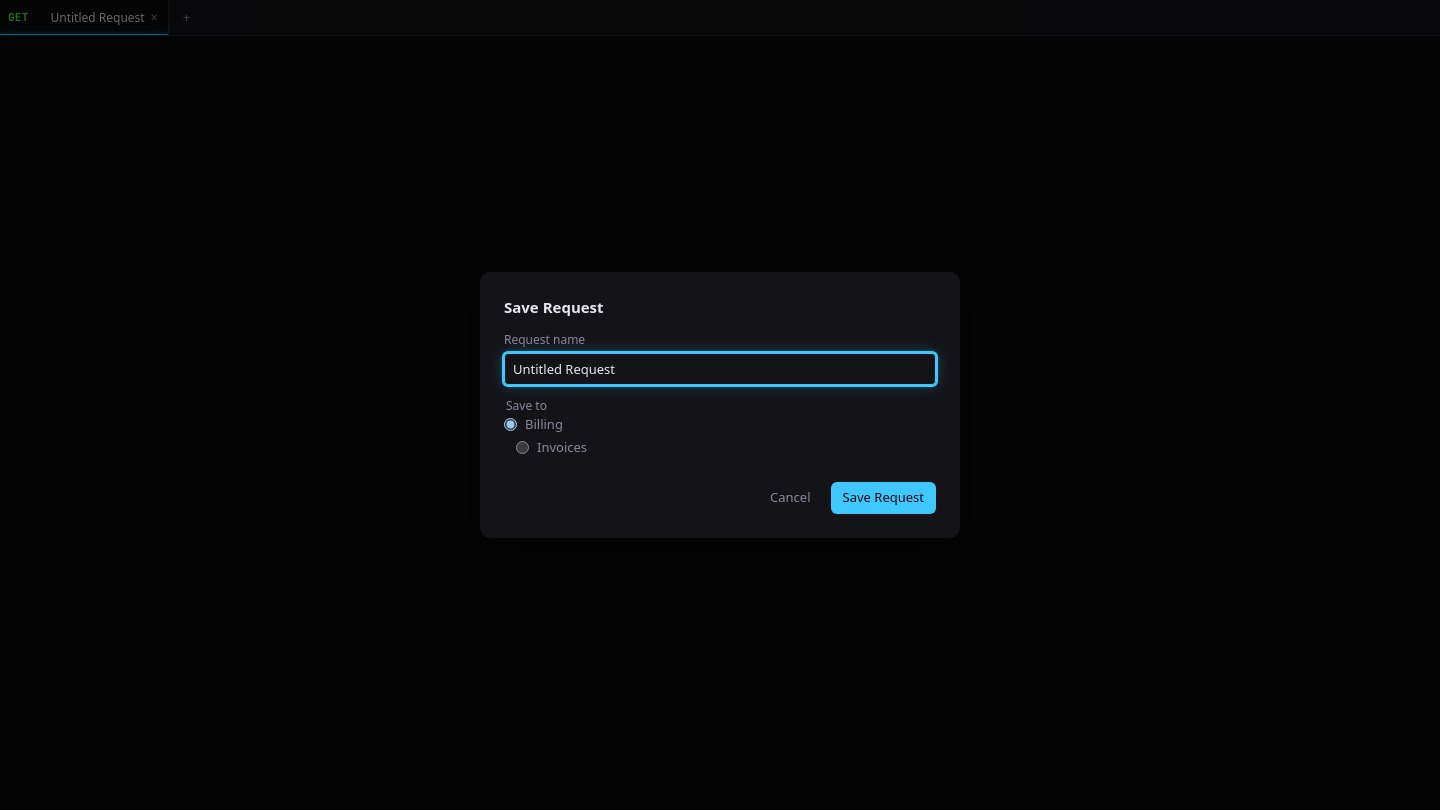
Scenario: TabStrip › saves a new tab into a chosen collection
The image size is (1440, 810).
Replace the text in the field labelled "Request name" with "Users" at (720,369), box [504, 353, 936, 385]
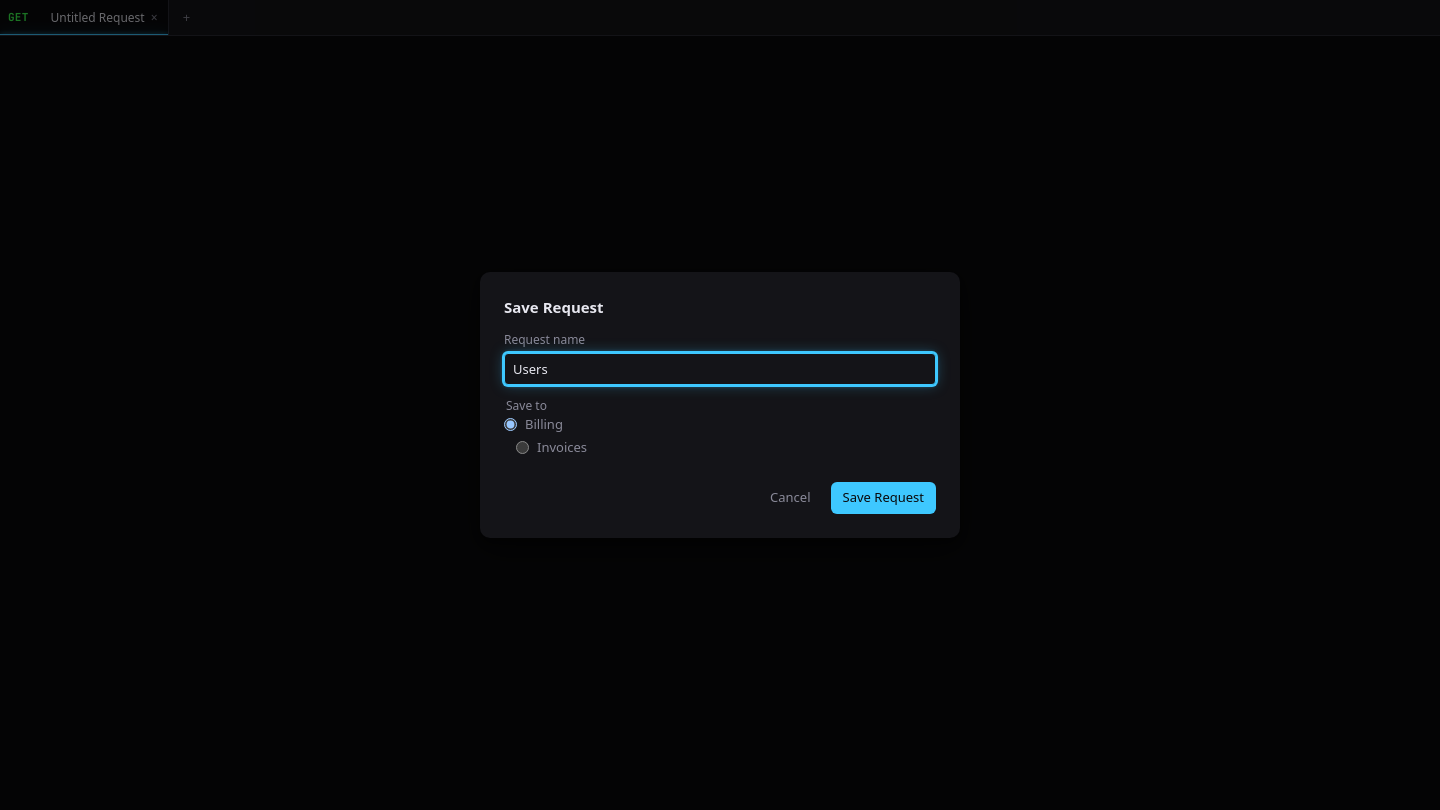
Click the radio button labelled "Invoices" at (522,448), box [516, 442, 529, 454]
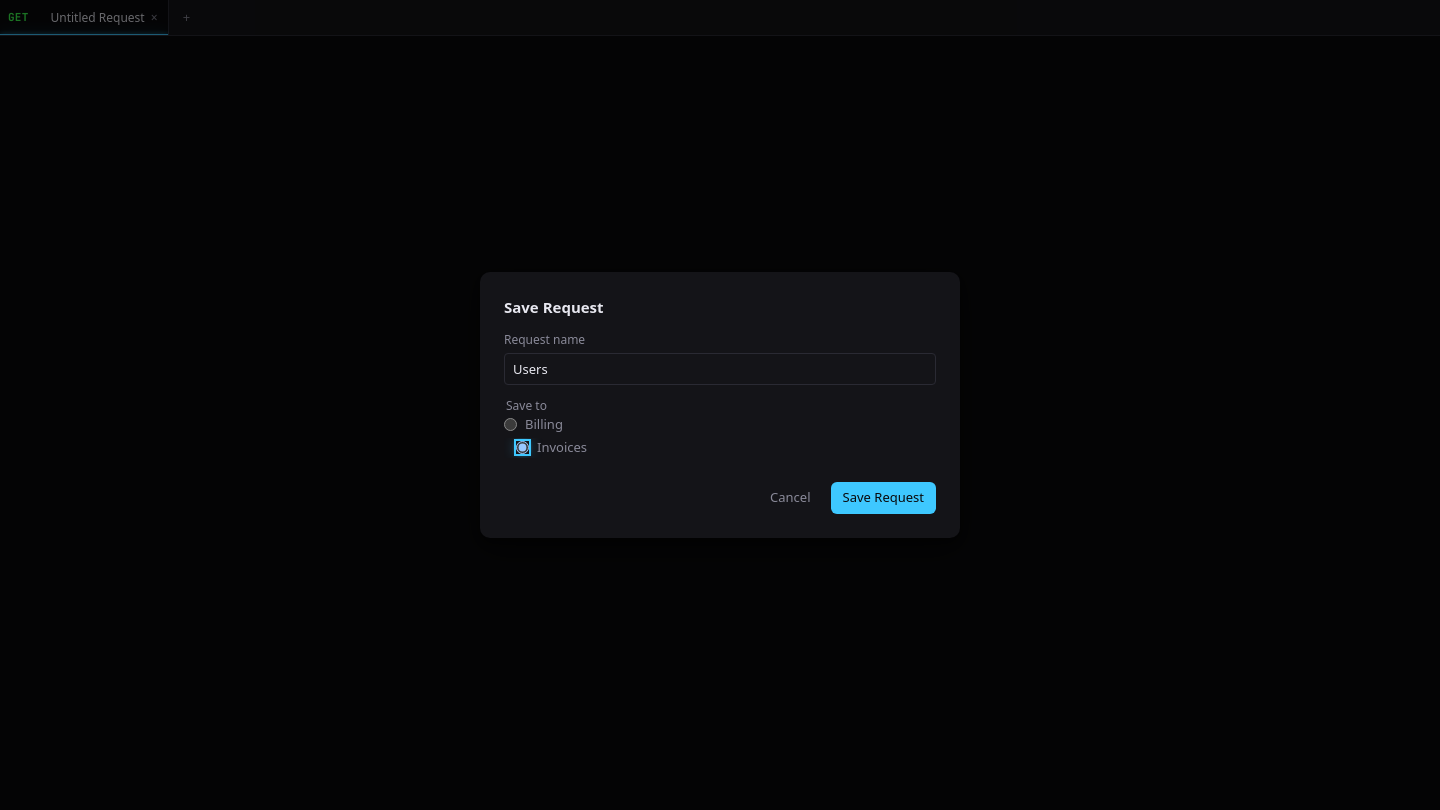
Click the button "Save Request" at (883,498), box [830, 482, 936, 514]
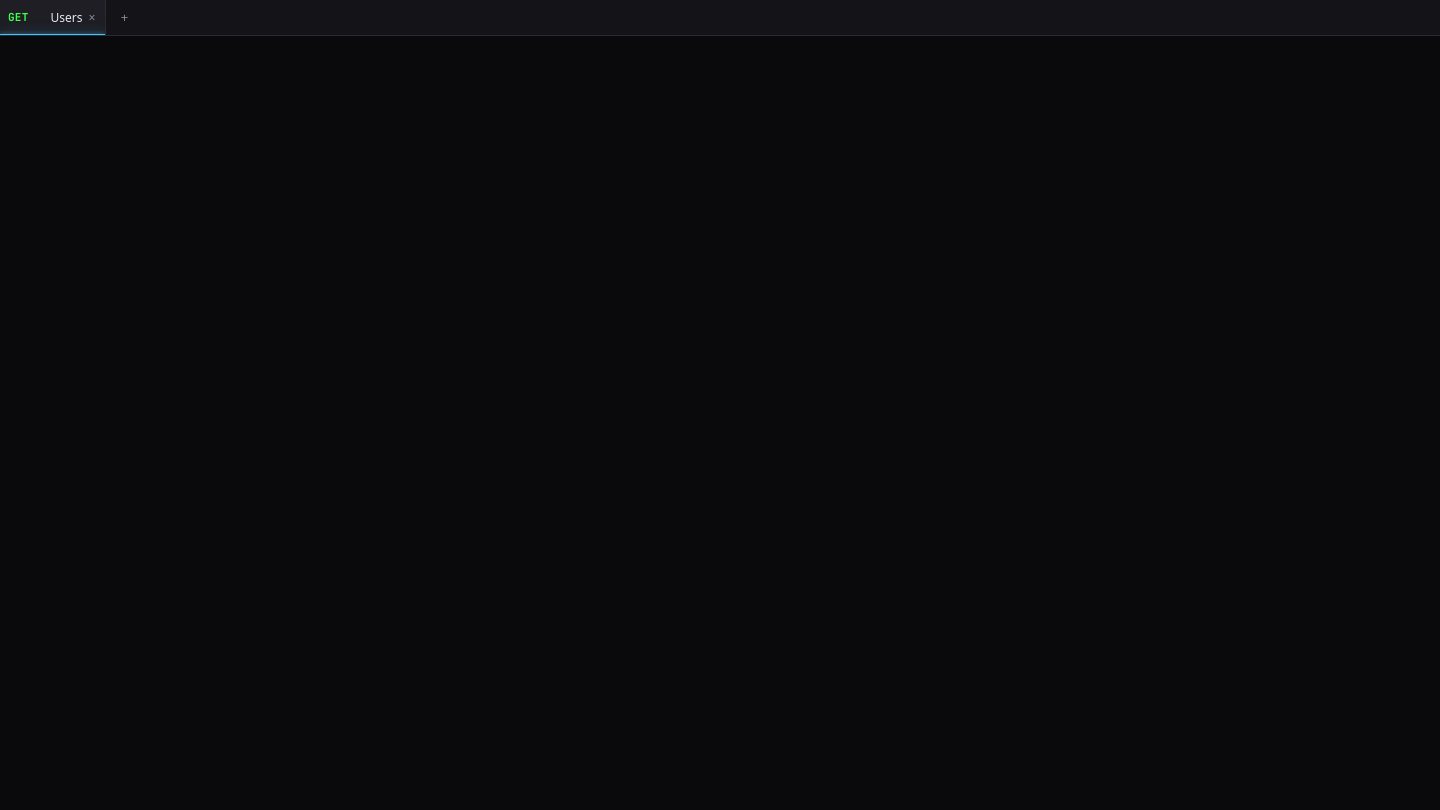
Now the dialog is gone
